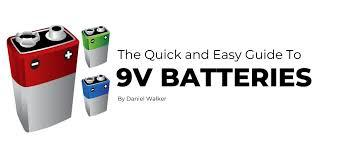9V: (5, 21, 81, 134), (80, 73, 113, 119), (79, 23, 111, 69)
